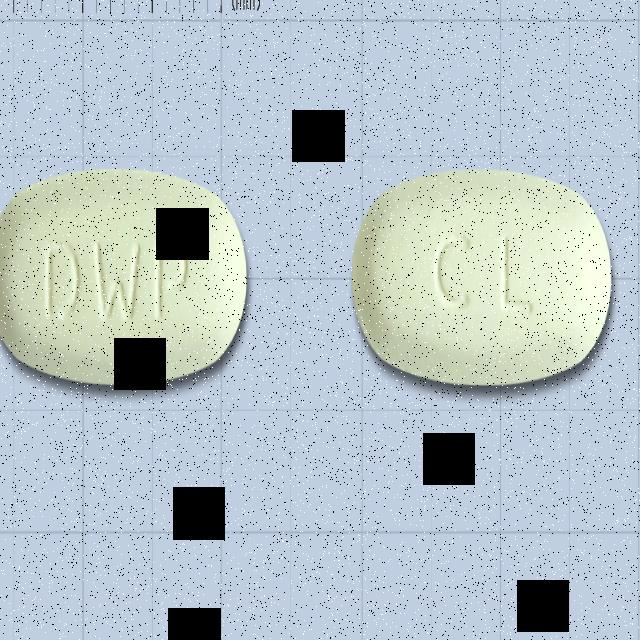Clacin -500mg: (348, 165, 616, 391), (0, 161, 253, 395)
